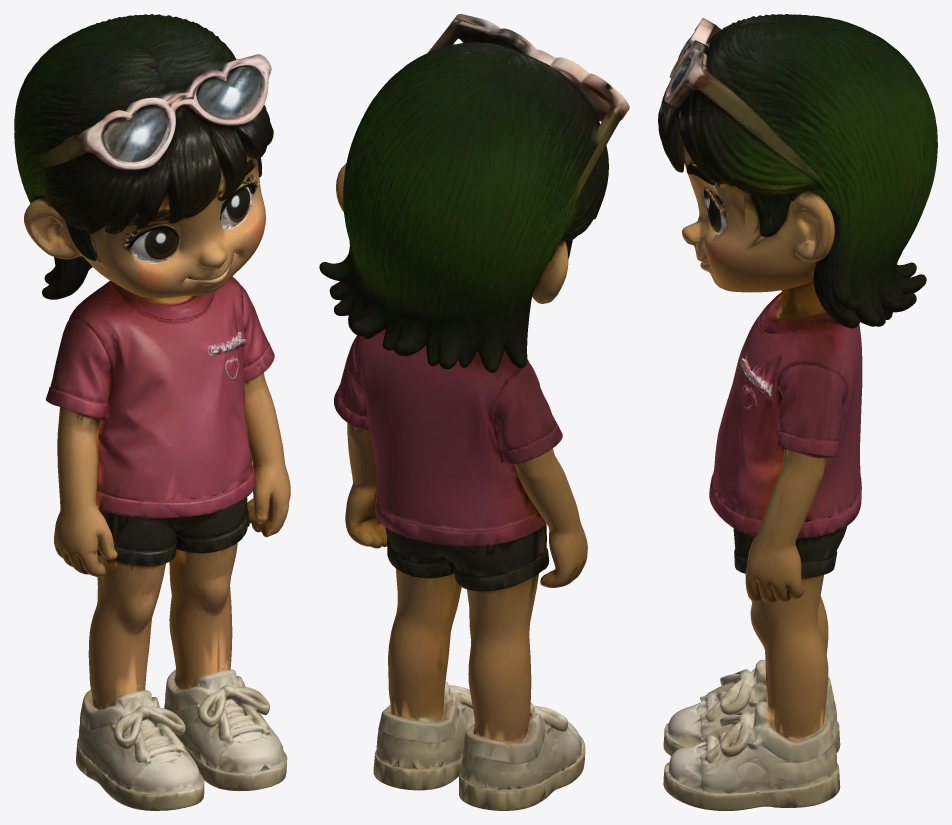
The model's file is opie-walking.glb.
3 views of the same model, side by side, from view 1: azimuth 30°, elevation 25°; view 2: azimuth 150°, elevation 25°; view 3: azimuth 270°, elevation 25° (orthographic).
Visible parts, largest first — view 1: node_0; view 2: node_0; view 3: node_0.
Boxes of the visible parts, x1=… form: node_0: x1=14, y1=14, x2=290, y2=810; node_0: x1=319, y1=14, x2=629, y2=810; node_0: x1=658, y1=14, x2=937, y2=810.
Size of the model in its own units: 0.3905 by 1.14 by 0.3927.
1 material, 1 textured.
